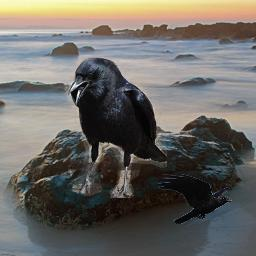Crow: (67, 57, 167, 198), (156, 173, 233, 224)
